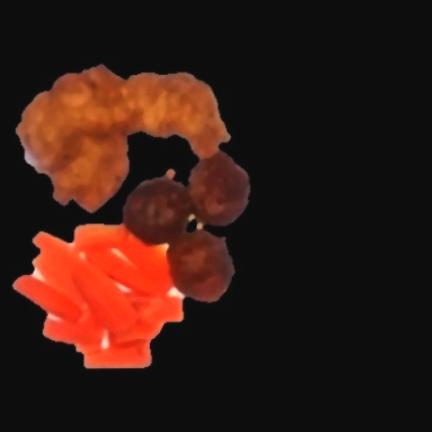carrot: (14, 223, 182, 368)
chicken: (16, 63, 229, 211)
meat: (123, 151, 250, 301), (166, 228, 235, 301)
